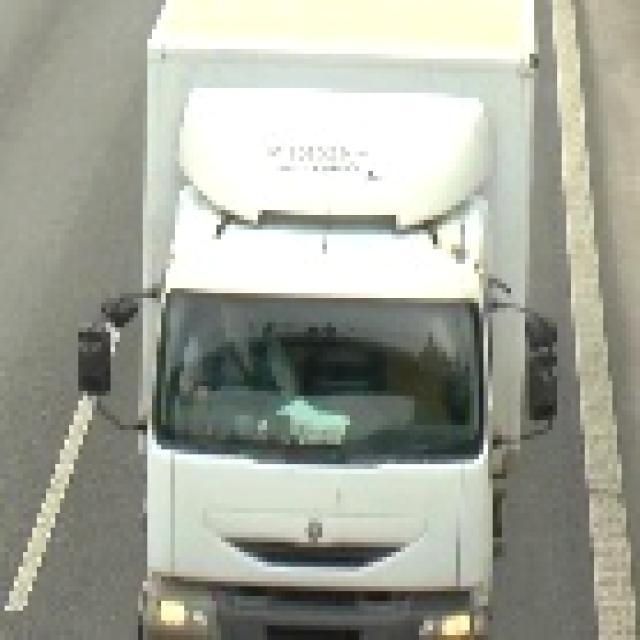truck: (75, 1, 554, 636)
